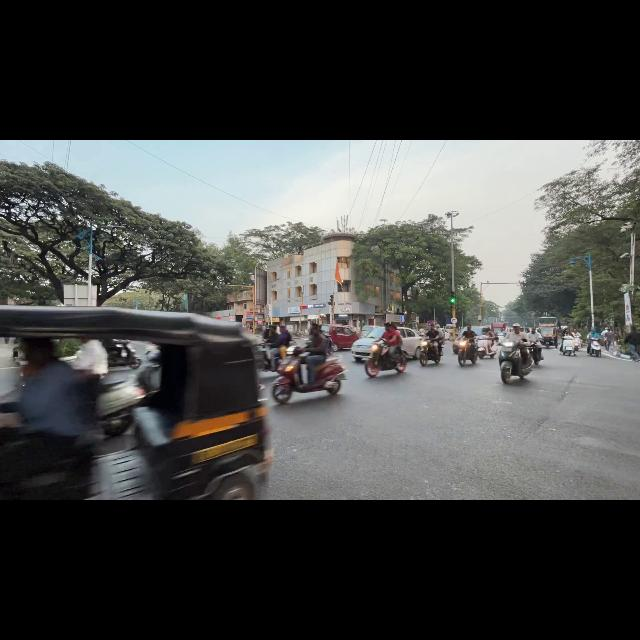car: (351, 327, 384, 362), (321, 324, 359, 351), (452, 328, 466, 353), (360, 326, 376, 337)
motorcycle: (272, 347, 346, 404), (93, 379, 145, 436), (97, 379, 145, 436), (365, 342, 407, 377), (499, 340, 531, 383), (104, 340, 141, 369), (259, 341, 281, 371), (419, 338, 441, 366), (458, 338, 477, 366), (477, 336, 497, 359), (528, 339, 543, 364), (561, 336, 578, 355), (588, 338, 601, 356)
